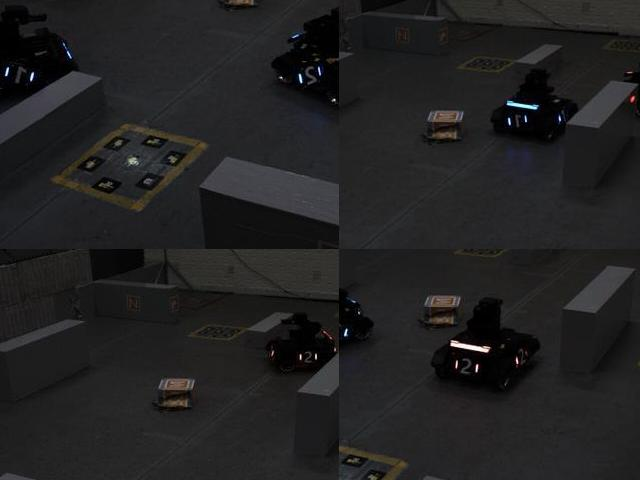armor: (1, 59, 43, 91), (295, 61, 325, 91), (452, 354, 483, 382), (512, 341, 533, 373), (504, 112, 533, 132), (552, 105, 572, 127), (296, 350, 321, 365), (339, 318, 352, 346)
